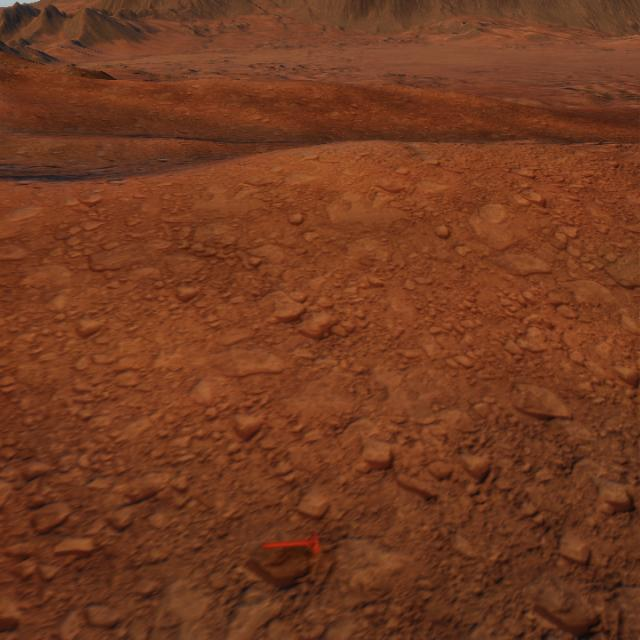newhammer: (263, 530, 319, 554)
